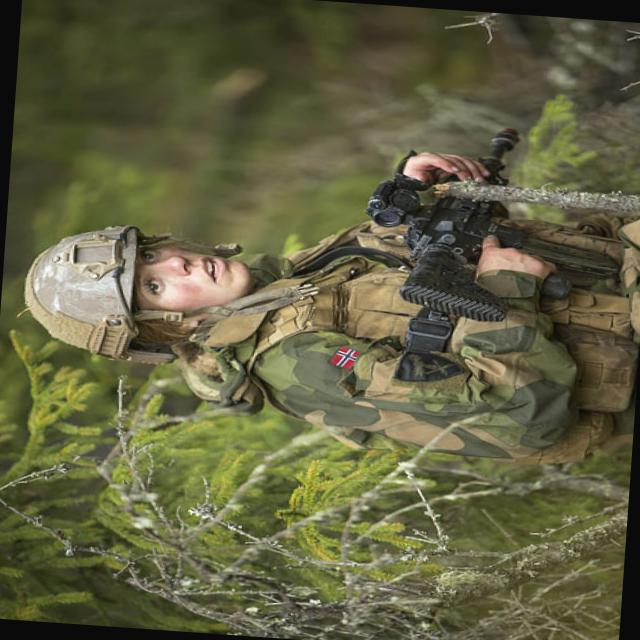long weapon: (360, 94, 604, 341)
